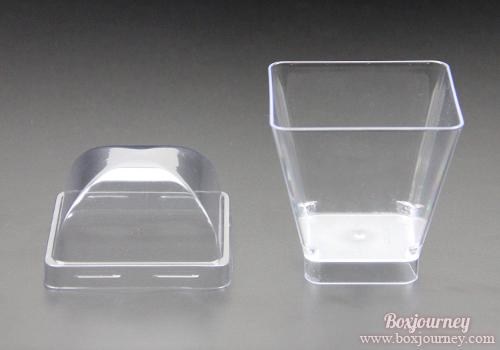plastic_glass: (261, 54, 466, 295)
